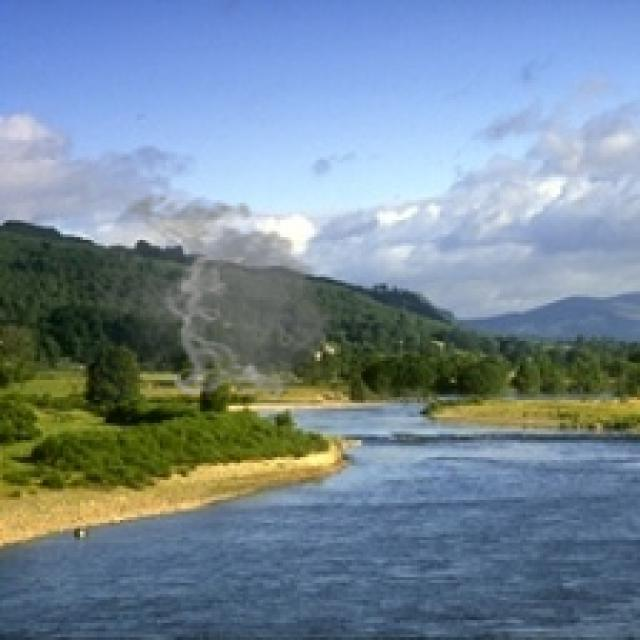smoke: (95, 188, 352, 403)
